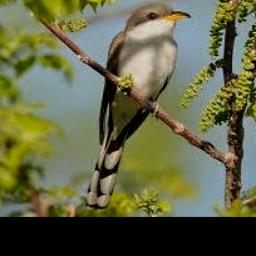Cuckoo: (83, 5, 192, 211)
